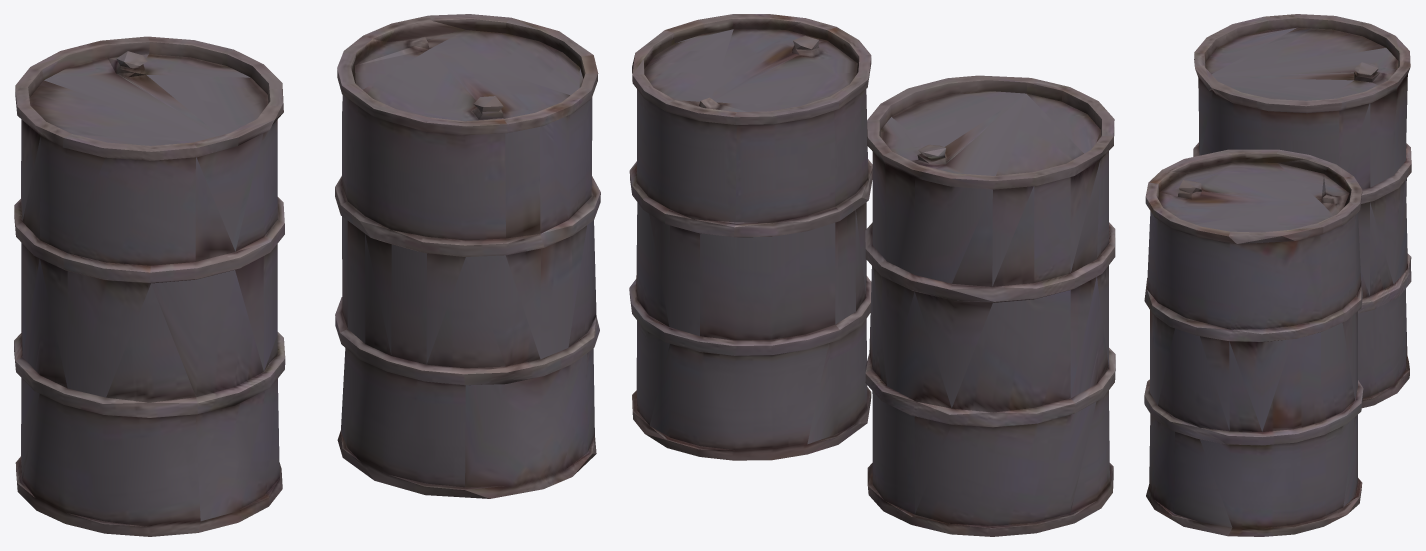
The model's file is bg_wasteland_barrels_1_lod0.glb.
3 renders of one model, left to right at view 1: azimuth 30°, elevation 25°; view 2: azimuth 150°, elevation 25°; view 3: azimuth 270°, elevation 25°, orthographic. The views are drawn at different scales.
Visible parts, largest first — view 1: body; view 2: body; view 3: body.
Part boxes in pixels (x1,y1,x2,y2): body: (14,14,600,536); body: (629,14,1115,536); body: (1144,14,1411,536).
Size of the model in its own units: 1.22 by 0.8988 by 0.6736.
1 material, 1 textured.
